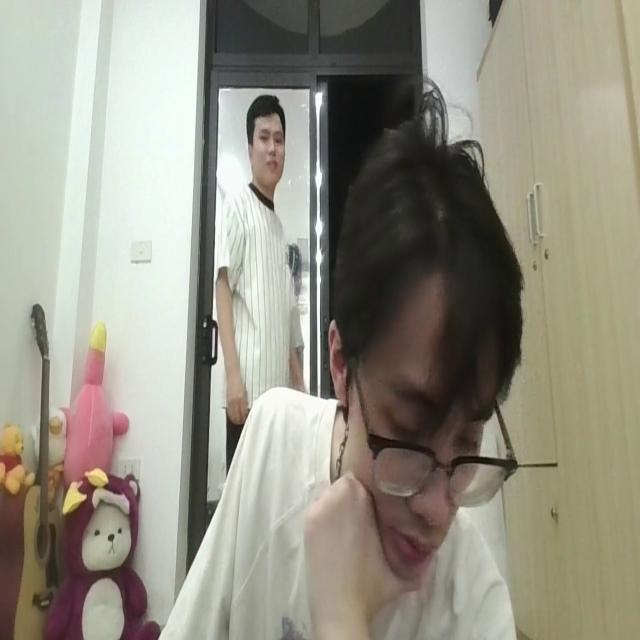extra_person: (215, 95, 304, 414)
student: (150, 121, 523, 640)
